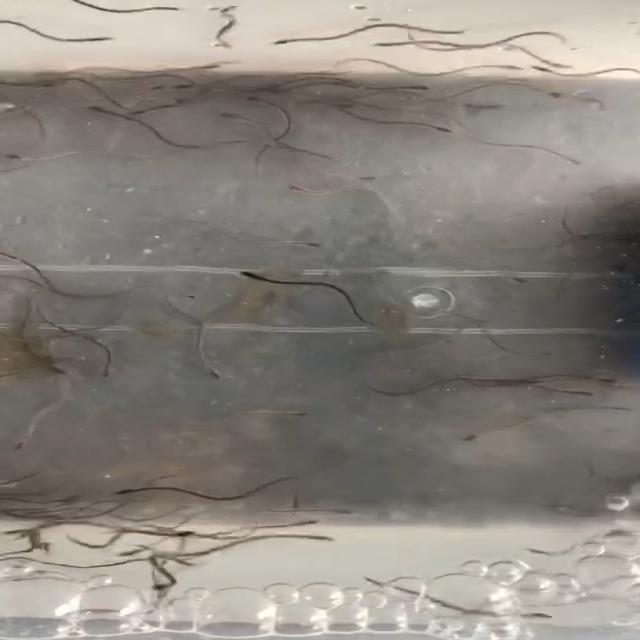active_glass_eel: (532, 85, 584, 108), (197, 361, 243, 384), (490, 269, 540, 288), (518, 60, 570, 77), (546, 152, 588, 172), (4, 430, 36, 456), (282, 177, 318, 199), (237, 89, 284, 105), (84, 105, 129, 121), (409, 118, 446, 137), (139, 577, 177, 595), (366, 35, 405, 52), (226, 271, 272, 285), (299, 533, 345, 547), (134, 98, 171, 114), (482, 62, 524, 76), (402, 80, 438, 95), (98, 357, 119, 382), (84, 34, 116, 50), (268, 33, 298, 50), (27, 77, 57, 94), (106, 486, 140, 501), (220, 104, 248, 122), (150, 5, 188, 18), (171, 80, 200, 96), (566, 388, 599, 402), (458, 430, 484, 447), (281, 240, 325, 250), (173, 526, 204, 540), (292, 516, 328, 528), (0, 150, 32, 162), (592, 372, 623, 384), (138, 82, 166, 95), (110, 548, 140, 556)
